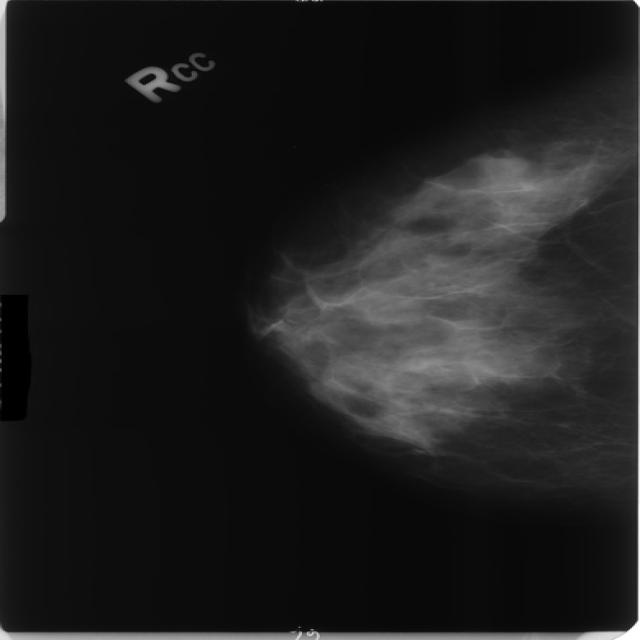tumour: (476, 153, 527, 181)
